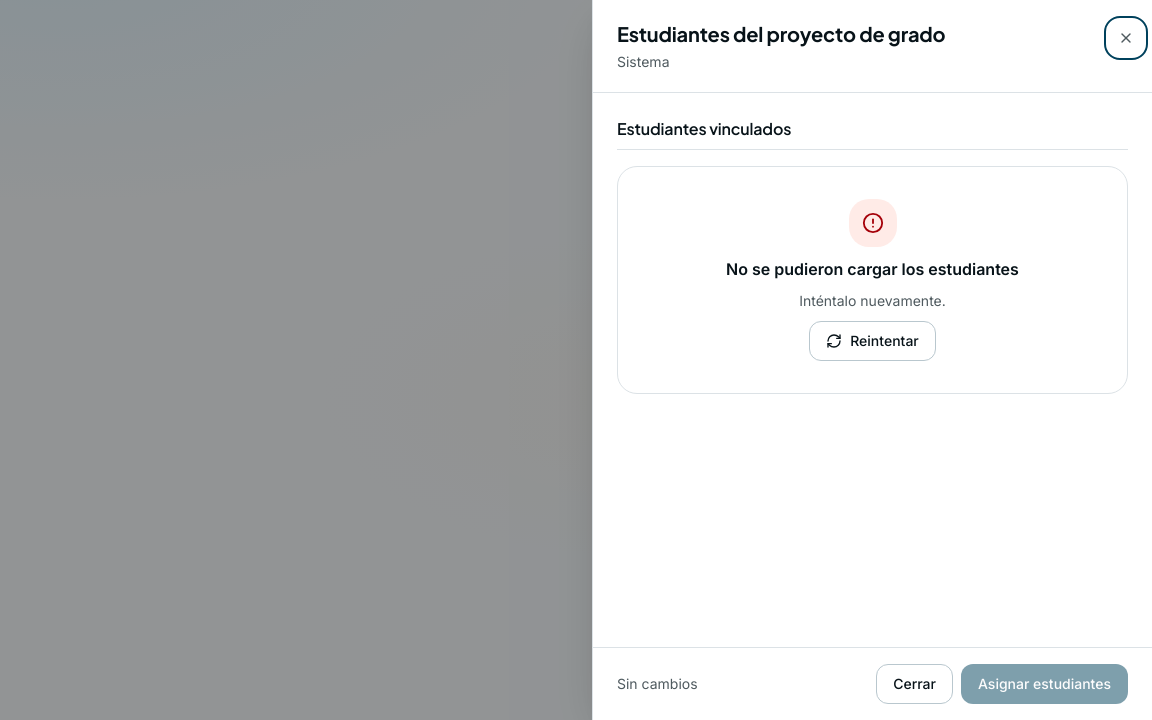
EstudiantesProyectoGradoPanel › muestra el error y «Reintentar» vuelve a consultar
Expected: the message "No se pudieron cargar los estudiantes Inténtalo nuevamente. Reintentar" is shown, [617,166,1128,394]
Click the button "Reintentar" at (872, 341), box [809,321,936,361]
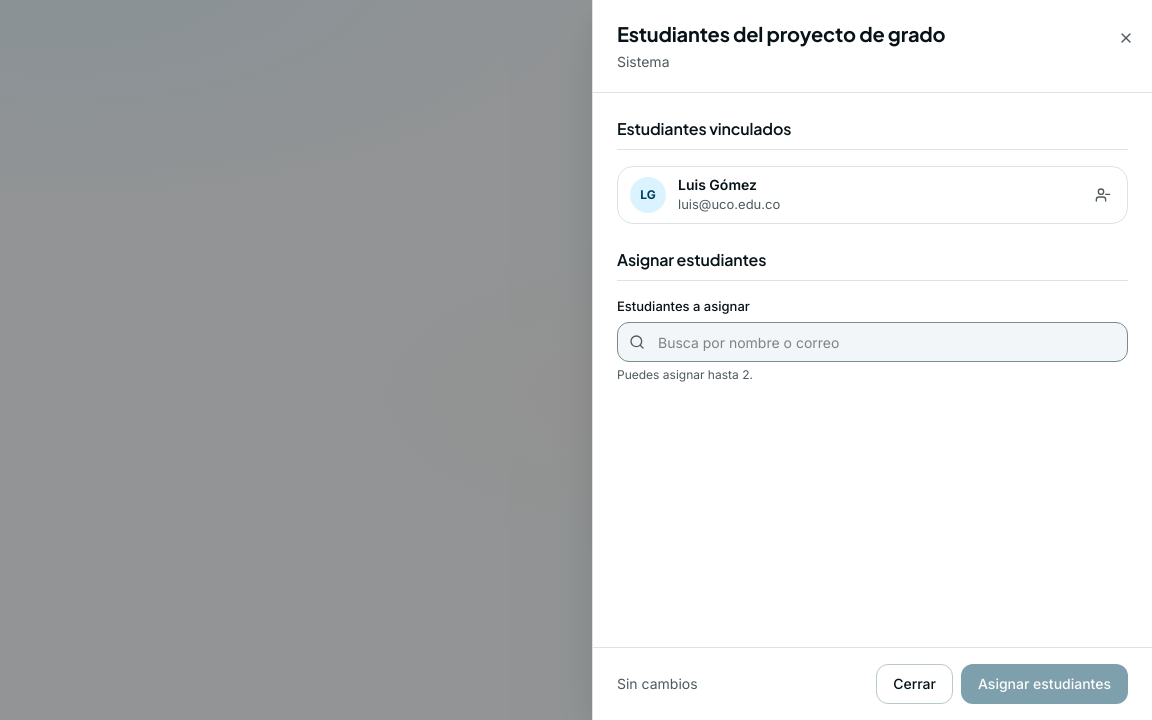
Expected: the text "Luis Gómez" is shown, [678,176,757,193]
